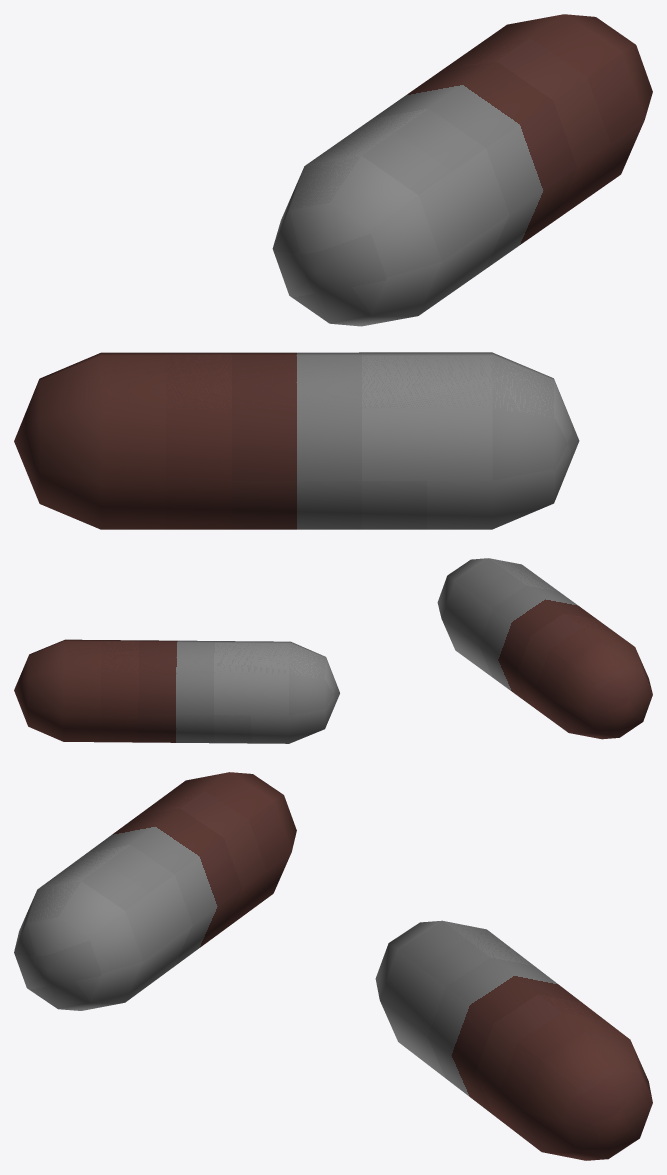
Rendered from pills_2_2.glb.
3 renders of one model, top to bottom at view 1: azimuth 30°, elevation 25°; view 2: azimuth 150°, elevation 25°; view 3: azimuth 270°, elevation 25°, orthographic. The views are drawn at different scales.
Parts seen in each view (by area): view 1: pills_2_2; view 2: pills_2_2; view 3: pills_2_2.
Boxes of the visible parts, x1=… form: pills_2_2: x1=14, y1=14, x2=652, y2=529; pills_2_2: x1=14, y1=558, x2=652, y2=743; pills_2_2: x1=14, y1=772, x2=652, y2=1160.
Size of the model in its own units: 0.0726 by 0.014 by 0.0624.
Materials: 1 (1 with a texture image).
